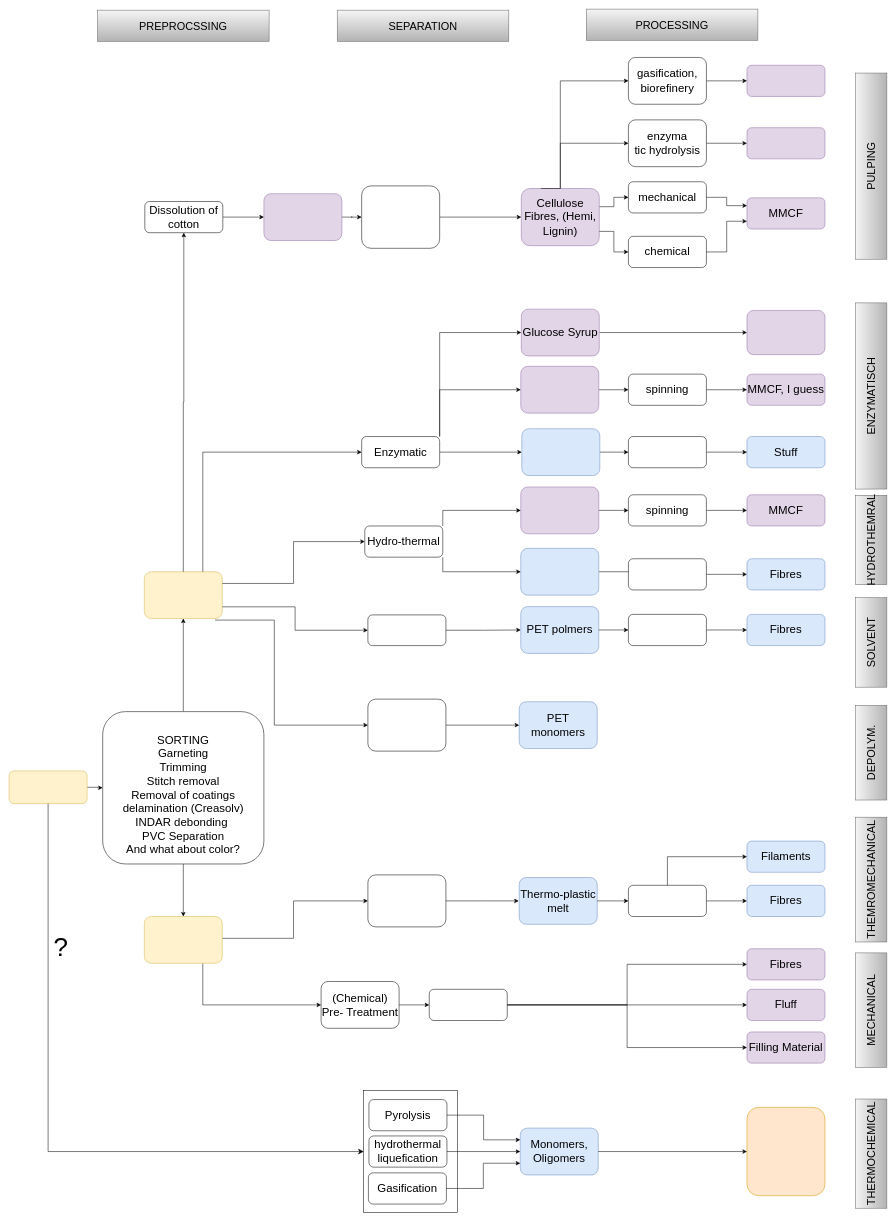
Some shapes in this 896 by 1221 pixel diagram are drawn without their labels. Here are the shapes that lost their labels. From the top down, the box of each, then its label:
(746, 65, 825, 96): Biofuels
(746, 127, 825, 159): Nano-crystals
(263, 193, 342, 240): Ligno-cellulosic structures
(361, 185, 440, 248): Pulping (eg NaOH/Na2S + mechanical
(746, 310, 825, 355): Plastics, Surfactants chemicals
(520, 366, 599, 413): Cellulose powder
(521, 428, 600, 476): PET, PA, PLA
(628, 436, 706, 468): poly-merization
(520, 486, 599, 534): Cellulose poweder / pulp
(520, 548, 599, 595): PET monmers
(628, 558, 706, 590): polym, spinn
(144, 571, 222, 619): Mixed Fabrics
(367, 614, 446, 646): Dissolution of PET
(628, 614, 706, 646): meltspinning?
(367, 699, 446, 751): Hydrolysis, Glycolysis, Methanolysis
(9, 770, 87, 804): Textile Waste
(367, 874, 446, 927): Thermo-mechanical
(628, 885, 706, 916): Melt Processing
(144, 916, 222, 963): Not so mixed fabrics
(429, 989, 507, 1020): Mechanical action
(746, 1107, 825, 1196): Chemical Industries (energy recovery, fuel production)
